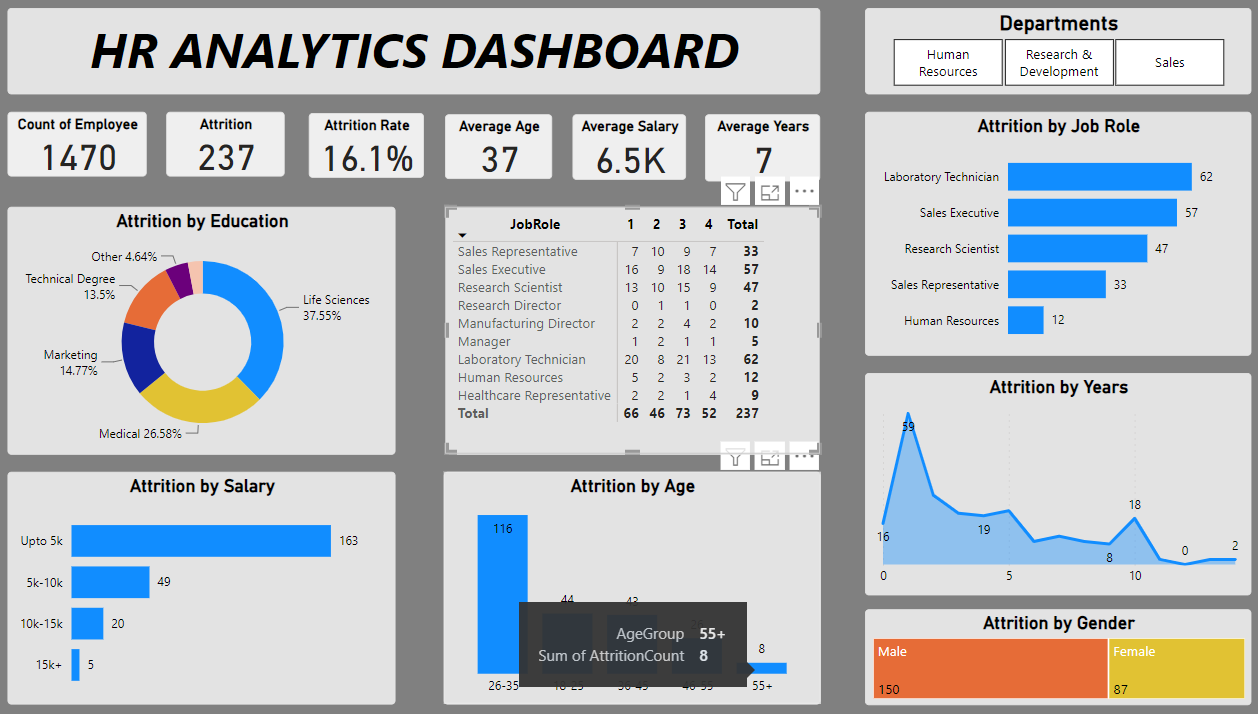

The page's visual inventory and layout, read from the dashboard file:
{"tool":"powerbi","page":{"name":"Page 1","canvas":[1280,720],"ordinal":0},"visuals":[{"type":"card","title":"Count of Employee","fields":{"Values":["CountNonNull(HR_Analytics.EmpID)"]},"box":[17,113.8,139.4,64.9],"z":0},{"type":"card","title":"Attrition","fields":{"Values":["Sum(HR_Analytics.AttritionCount)"]},"box":[176.6,113.8,118.1,64.9],"z":1000},{"type":"card","title":"Attrition Rate","fields":{"Values":["HR_Analytics.AttritionRate"]},"box":[319.1,114.9,114.9,64.9],"z":2000},{"type":"card","title":"Average Age ","fields":{"Values":["Avg(HR_Analytics.Age)"]},"box":[455.3,116,107.4,64.9],"z":3000},{"type":"card","title":"Average Salary","fields":{"Values":["Avg(HR_Analytics.MonthlyIncome)"]},"box":[583,116,113.8,66],"z":4000},{"type":"card","title":"Average Years ","fields":{"Values":["Avg(HR_Analytics.YearsAtCompany)"]},"box":[714.9,116,114.9,67],"z":5000},{"type":"donutChart","title":"Attrition by Education","fields":{"Category":["HR_Analytics.EducationField"],"Y":["Sum(HR_Analytics.AttritionCount)"]},"box":[17,208.5,388.3,247.9],"z":6000},{"type":"columnChart","title":"Attrition by Age","fields":{"Category":["HR_Analytics.AgeGroup"],"Y":["Sum(HR_Analytics.AttritionCount)"]},"box":[453.2,473.4,376.6,233],"z":7000},{"type":"pivotTable","fields":{"Rows":["HR_Analytics.JobRole"],"Columns":["HR_Analytics.JobSatisfaction"],"Values":["Sum(HR_Analytics.AttritionCount)"]},"box":[455.3,208.5,374.5,247.9],"z":8000},{"type":"barChart","title":"Attrition by Salary","fields":{"Category":["HR_Analytics.SalarySlab"],"Y":["Sum(HR_Analytics.AttritionCount)"]},"box":[17,473.4,388.3,233],"z":9000},{"type":"barChart","title":"Attrition by Job Role","fields":{"Category":["HR_Analytics.JobRole"],"Y":["Sum(HR_Analytics.AttritionCount)"]},"box":[875.5,113.8,386.2,243.6],"z":10000},{"type":"areaChart","title":"Attrition by Years","fields":{"Category":["HR_Analytics.YearsAtCompany"],"Y":["Sum(HR_Analytics.AttritionCount)"]},"box":[875,375,386.2,222.5],"z":11000},{"type":"treemap","title":"Attrition by Gender","fields":{"Group":["HR_Analytics.Gender"],"Values":["Sum(HR_Analytics.AttritionCount)"]},"box":[875.5,610.6,386.2,95.7],"z":12000},{"type":"slicer","title":"Departments","fields":{"Values":["HR_Analytics.Department"]},"box":[875.5,9.6,386.2,86.2],"z":13000},{"type":"textbox","box":[17,9.6,812.8,86.2],"z":14000}]}

Visuals, with their boxes in screenshot pixels (x1, y1, x2, y2), scaled from the page's 1280x720 canvas onto the 1258x714 screenshot:
"Count of Employee" card: (x1=17, y1=113, x2=154, y2=177)
"Attrition" card: (x1=174, y1=113, x2=290, y2=177)
"Attrition Rate" card: (x1=314, y1=114, x2=427, y2=178)
"Average Age " card: (x1=447, y1=115, x2=553, y2=179)
"Average Salary" card: (x1=573, y1=115, x2=685, y2=180)
"Average Years " card: (x1=703, y1=115, x2=816, y2=181)
"Attrition by Education" donutChart: (x1=17, y1=207, x2=398, y2=453)
"Attrition by Age" columnChart: (x1=445, y1=469, x2=816, y2=701)
pivotTable - HR_Analytics.JobRole x HR_Analytics.JobSatisfaction: (x1=447, y1=207, x2=816, y2=453)
"Attrition by Salary" barChart: (x1=17, y1=469, x2=398, y2=701)
"Attrition by Job Role" barChart: (x1=860, y1=113, x2=1240, y2=354)
"Attrition by Years" areaChart: (x1=860, y1=372, x2=1240, y2=593)
"Attrition by Gender" treemap: (x1=860, y1=606, x2=1240, y2=700)
"Departments" slicer: (x1=860, y1=10, x2=1240, y2=95)
textbox: (x1=17, y1=10, x2=816, y2=95)
